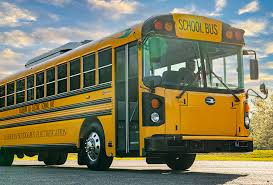bus: (1, 12, 260, 171)
